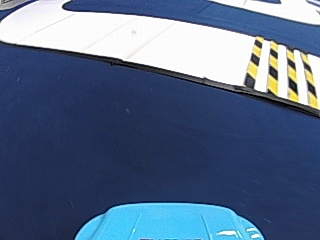bump: (243, 37, 314, 101)
